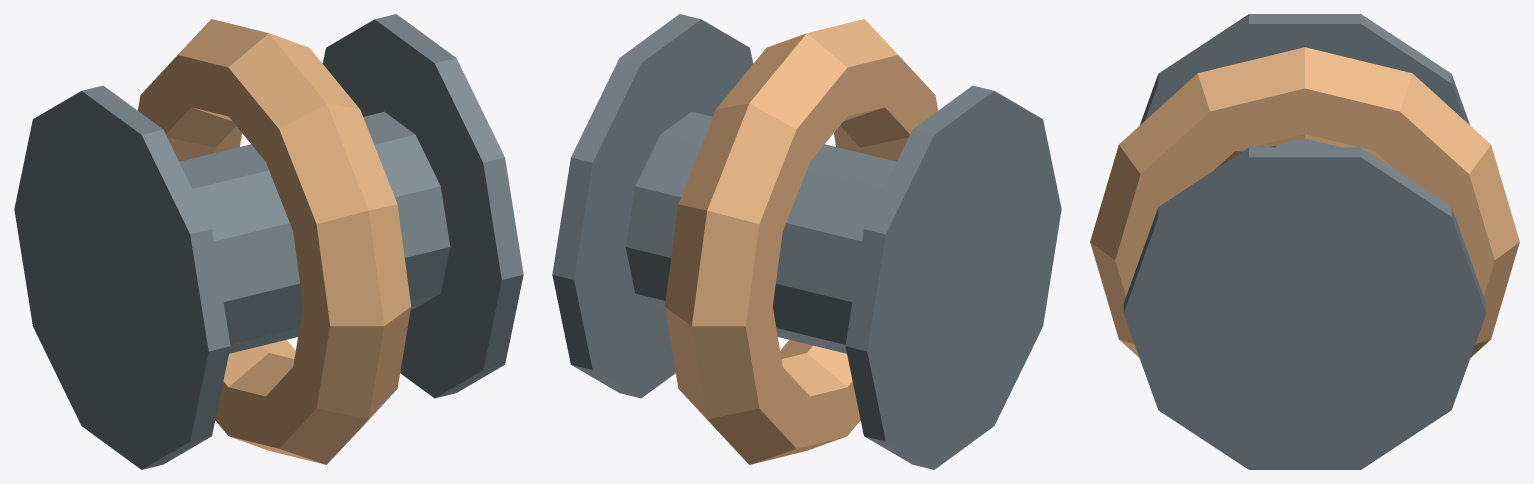
The model's file is FTF_Product_CopperWireSpool.glb.
3 views of the same model, side by side, from view 1: azimuth 30°, elevation 25°; view 2: azimuth 150°, elevation 25°; view 3: azimuth 270°, elevation 25° (orthographic). The views are drawn at different scales.
Parts seen in each view (by area): view 1: CopperWireCoil, SpoolFlange_Left, SpoolFlange_Right, SpoolCore; view 2: CopperWireCoil, SpoolFlange_Left, SpoolFlange_Right, SpoolCore; view 3: SpoolFlange_Right, CopperWireCoil, SpoolFlange_Left.
Boxes of the visible parts, left/top/right/bottom form: CopperWireCoil: left=138, top=19, right=411, bottom=464; SpoolFlange_Left: left=14, top=85, right=230, bottom=469; SpoolFlange_Right: left=322, top=14, right=523, bottom=398; SpoolCore: left=179, top=111, right=450, bottom=353; CopperWireCoil: left=664, top=19, right=937, bottom=464; SpoolFlange_Left: left=845, top=85, right=1061, bottom=469; SpoolFlange_Right: left=552, top=14, right=753, bottom=398; SpoolCore: left=625, top=111, right=896, bottom=353; SpoolFlange_Right: left=1123, top=147, right=1486, bottom=469; CopperWireCoil: left=1090, top=47, right=1519, bottom=357; SpoolFlange_Left: left=1139, top=14, right=1470, bottom=125.
Size of the model in its own units: 0.505 by 0.64 by 0.64.
